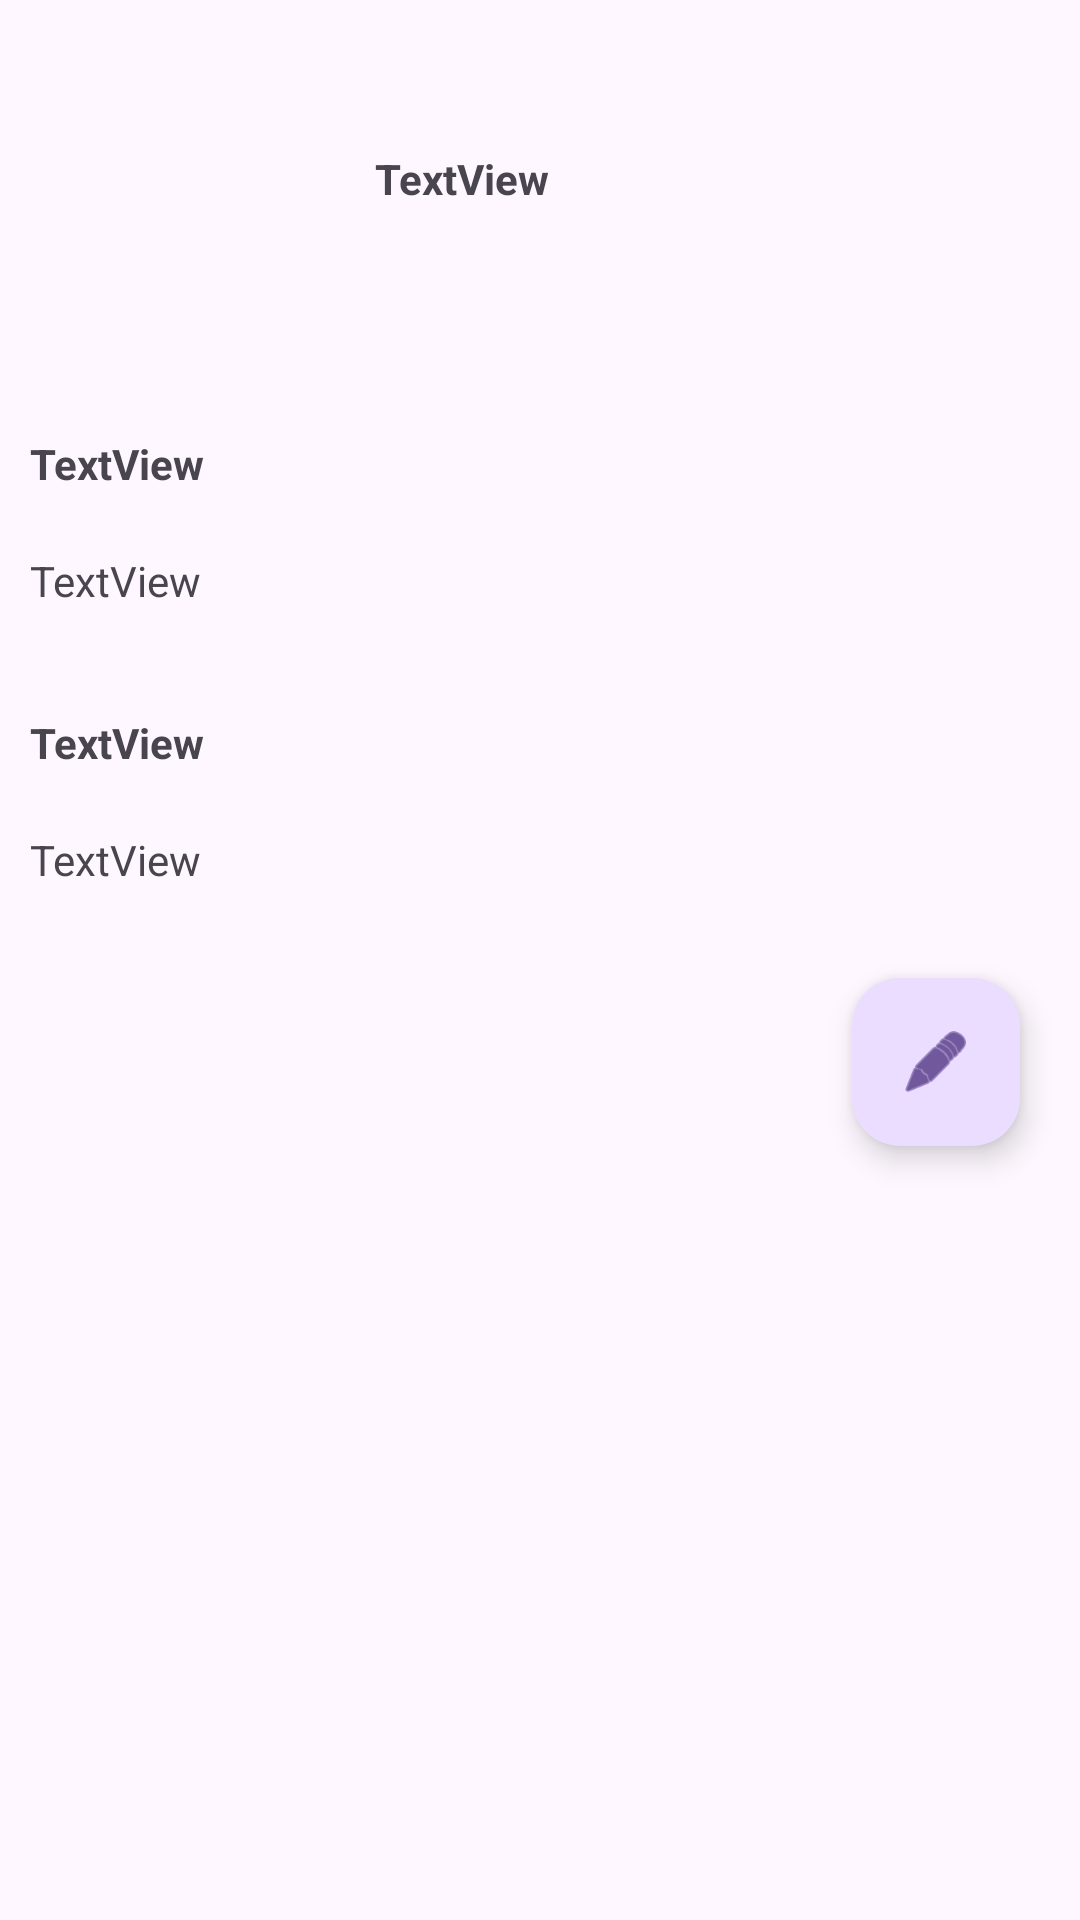

Icon bounding boxes for this 1080x1920 phone screenshot, format (x1, y1, x2, y2):
edit: (852, 978, 1020, 1146)
